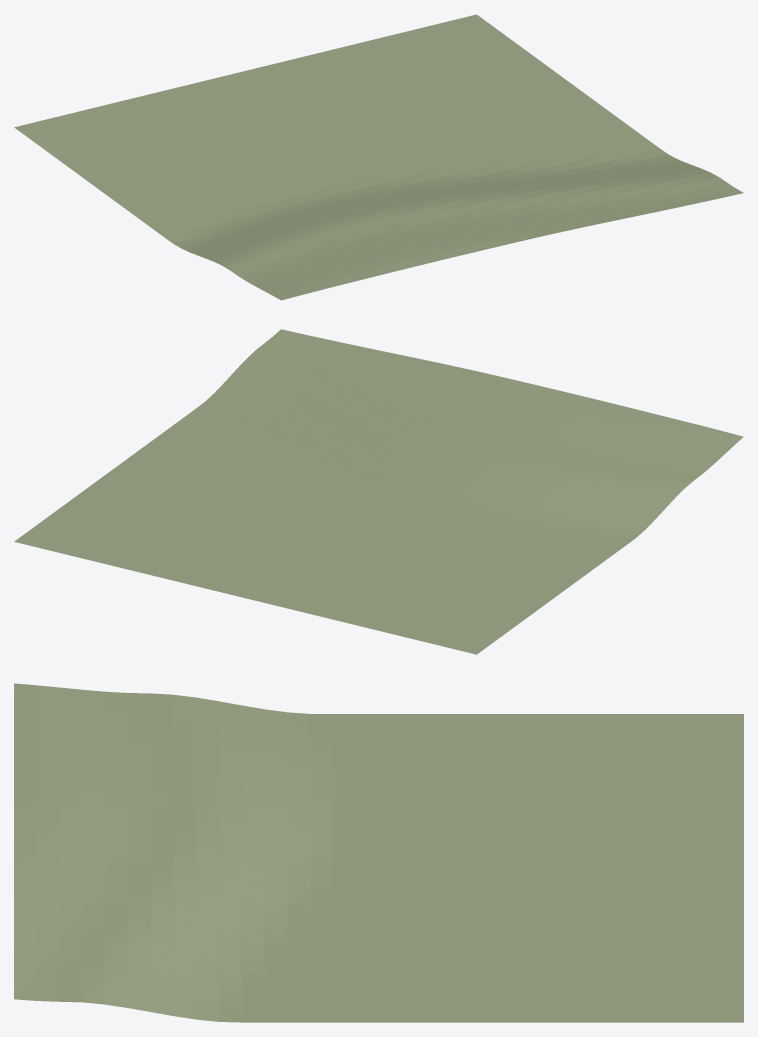
File: coast-2-0.glb
The picture shows the model from 3 angles, top to bottom: view 1: azimuth 30°, elevation 25°; view 2: azimuth 150°, elevation 25°; view 3: azimuth 270°, elevation 25°; orthographic projection. The views are drawn at different scales.
Parts seen in each view (by area): view 1: coast-2-0; view 2: coast-2-0; view 3: coast-2-0.
Part boxes in pixels (left/top/right/bottom): coast-2-0: left=14, top=14, right=743, bottom=300; coast-2-0: left=14, top=329, right=743, bottom=654; coast-2-0: left=14, top=683, right=743, bottom=1022.
Bounding box in the file's own units: 128 × 6.25 × 128.
